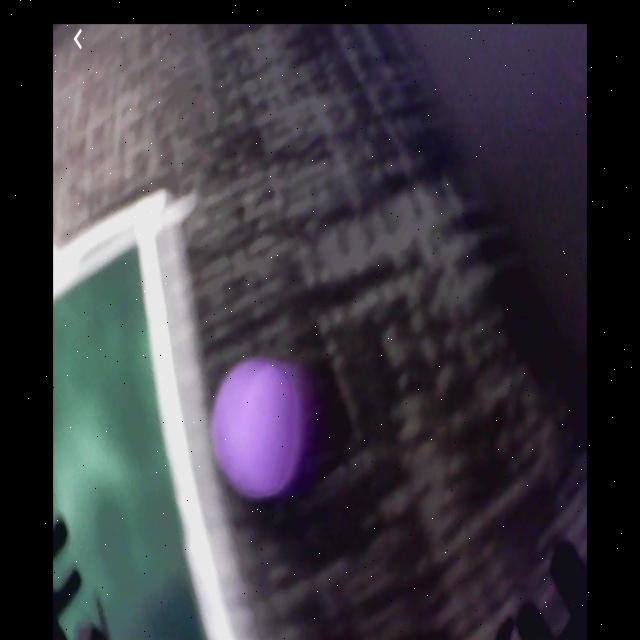ball: (213, 360, 300, 500)
